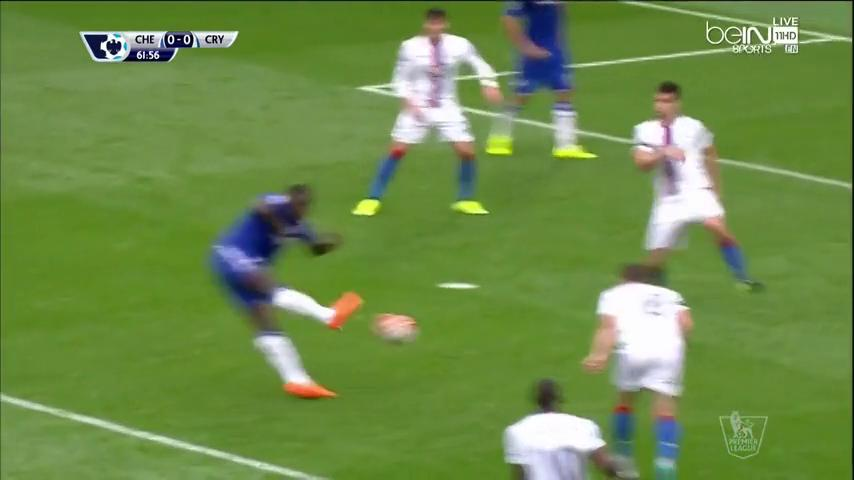football: (373, 310, 420, 344)
